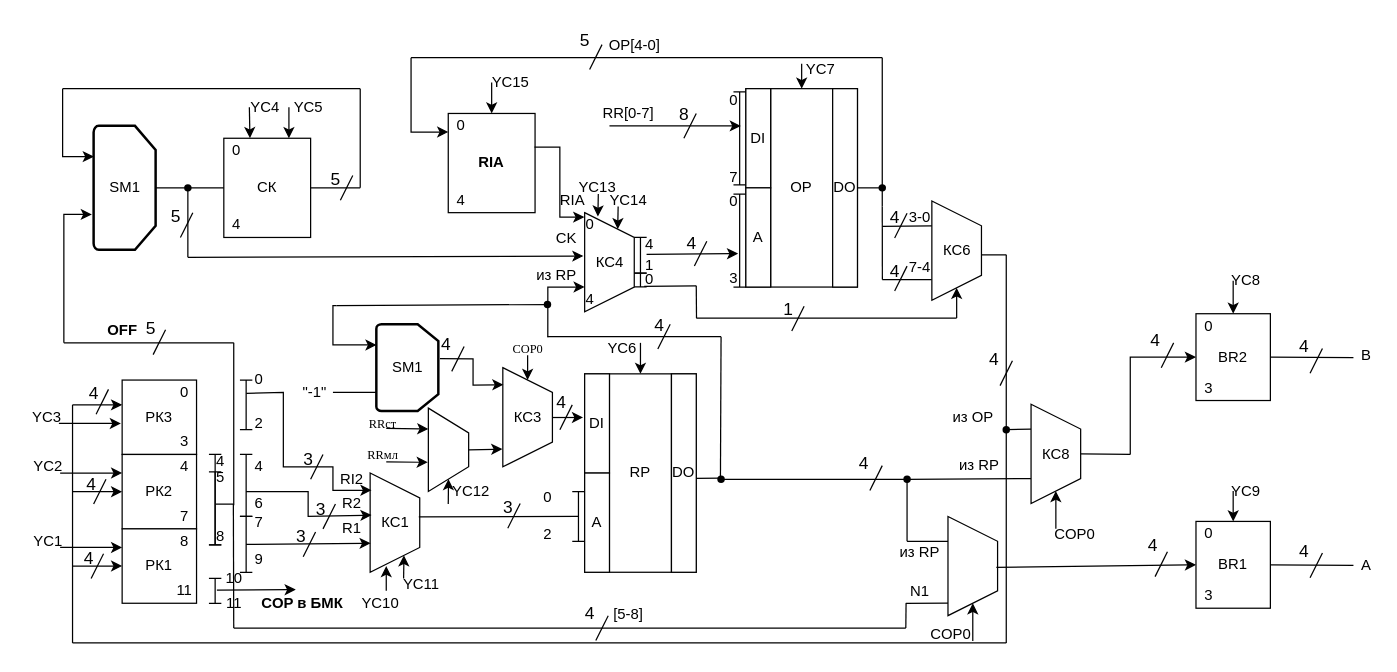
Some shapes in this 1397 by 672 pixel diagram are drawn without their labels. The centre of each missing label's shape, as x and y in pixels:
"КС2" goes at pixel 448 449.
"КС7" goes at pixel 972 565.
